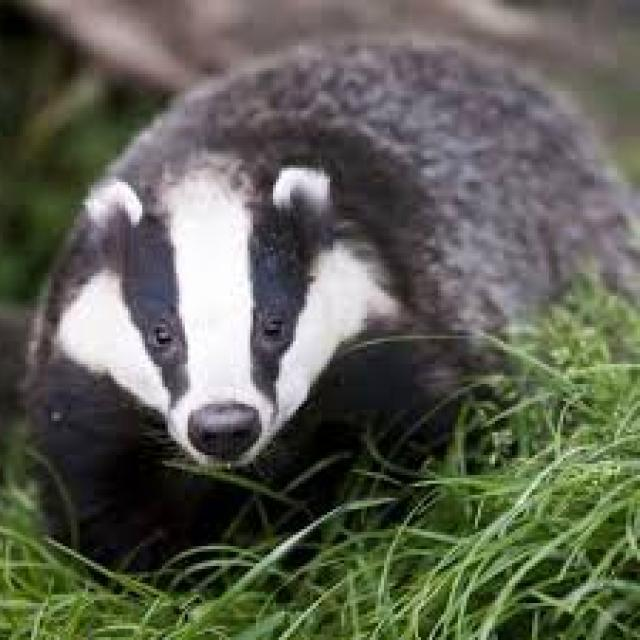badger: (26, 43, 640, 569)
